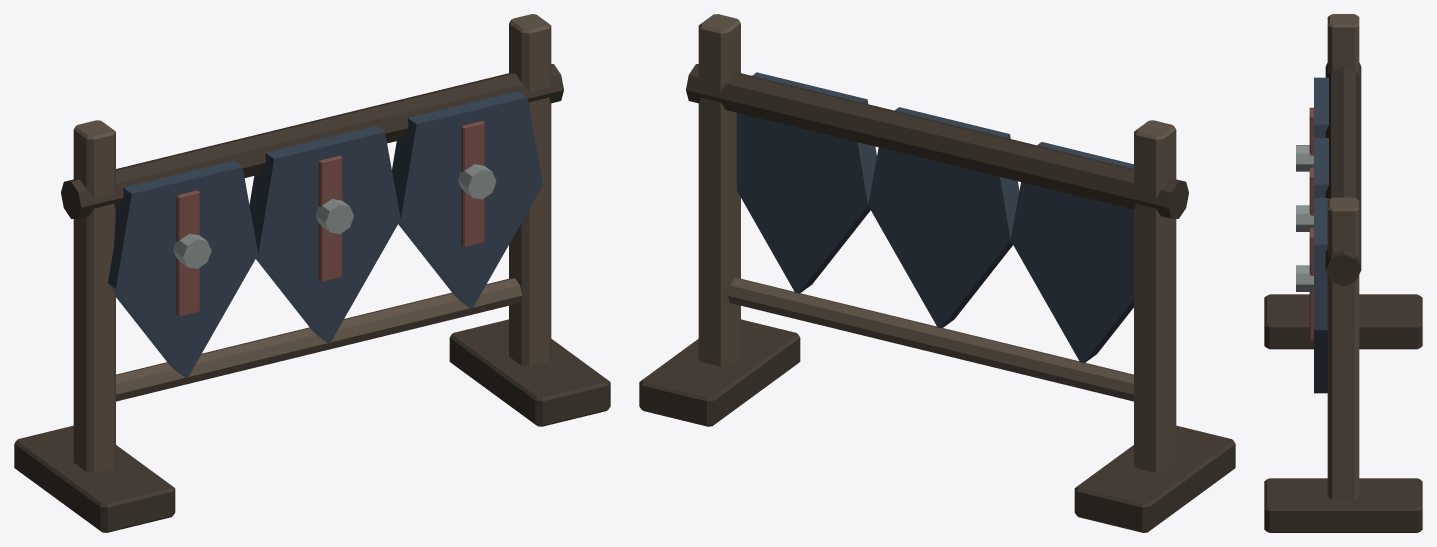
Rendered from shield-rack.glb.
The picture shows the model from 3 angles, left to right: view 1: azimuth 30°, elevation 25°; view 2: azimuth 150°, elevation 25°; view 3: azimuth 270°, elevation 25°; orthographic projection. The views are drawn at different scales.
Parts seen in each view (by area): view 1: shield-rack__body; view 2: shield-rack__body; view 3: shield-rack__body.
Boxes of the visible parts, left/top/right/bottom form: shield-rack__body: left=14, top=14, right=610, bottom=532; shield-rack__body: left=639, top=14, right=1235, bottom=532; shield-rack__body: left=1264, top=14, right=1422, bottom=532.
Bounding box in the file's own units: 1.29 × 0.88 × 0.4.
